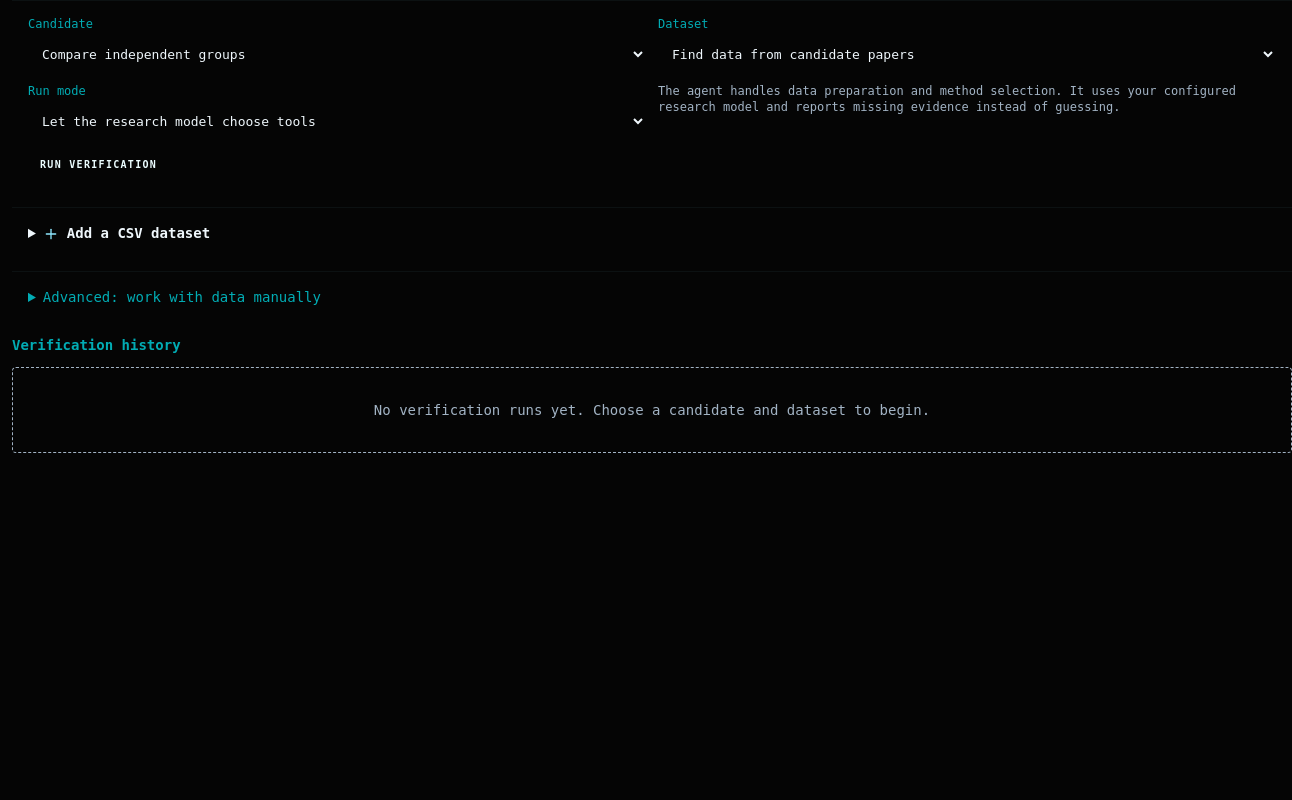
ResearchVerificationConsole › displays actual CSV inspection counts and samples
The width and height of the screenshot is (1292, 800).
Select "Synthetic data · 4 rows" in the dropdown labelled "Dataset" at (967, 54), box [658,38,1276,71]
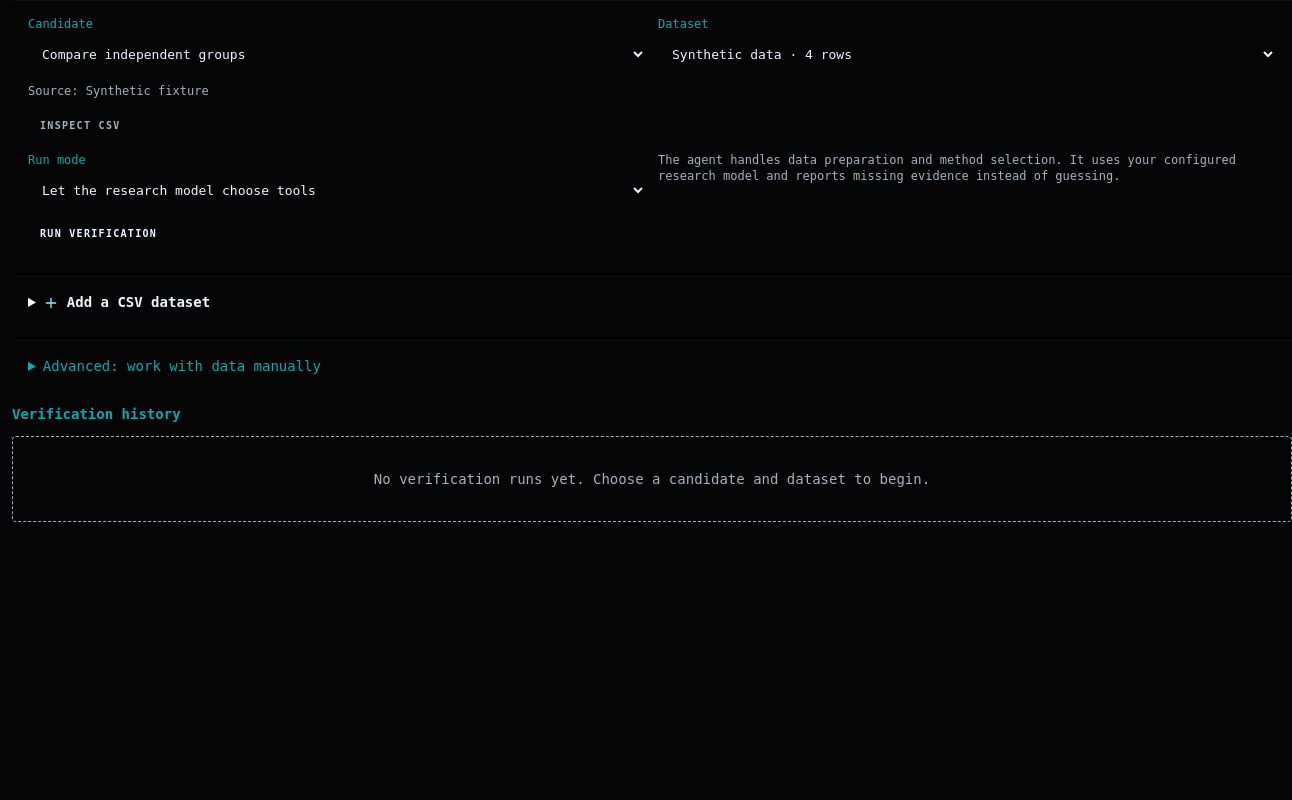
Click the button "Inspect CSV".
click(80, 126)  # box [28,111,132,140]
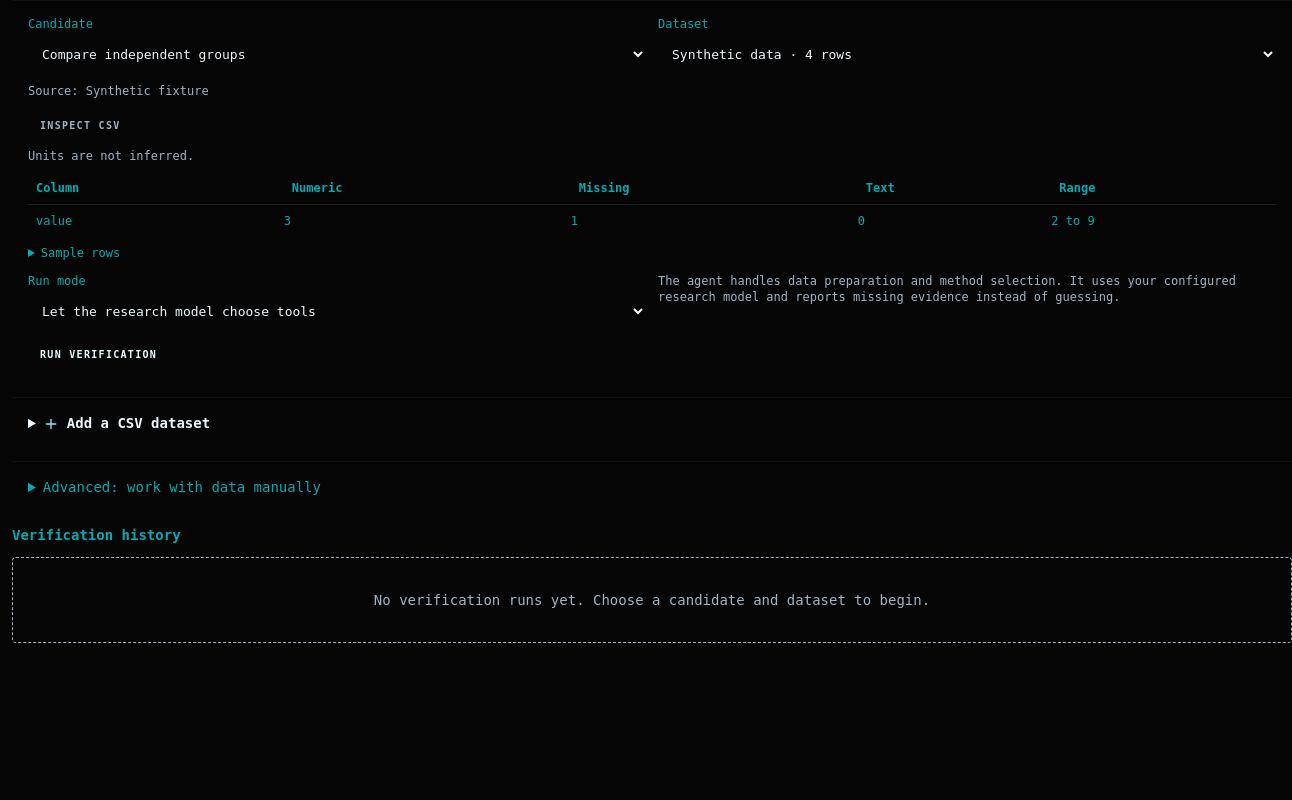
Expected: the text "Units are not inferred." is shown, [28,149,194,163]
Expected: the text "2 to 9" is shown, [1051,204,1276,237]
Expected: the column heading "Missing" is shown, [571,172,858,204]
